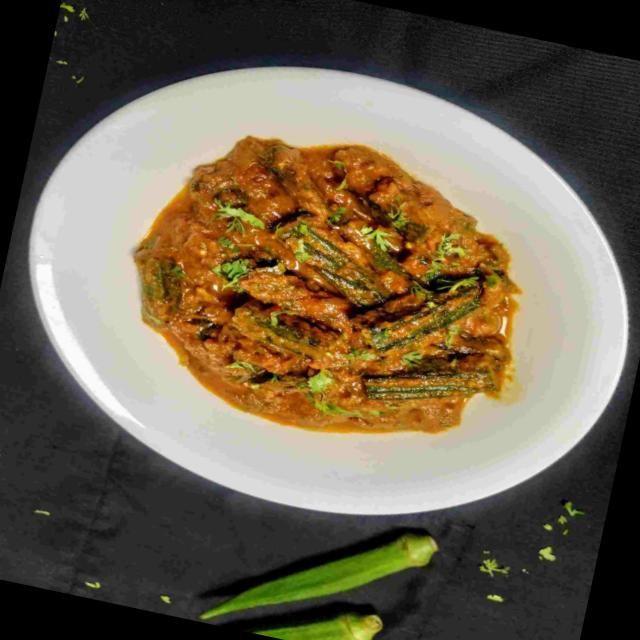BhindiMasala: (102, 103, 549, 470)
